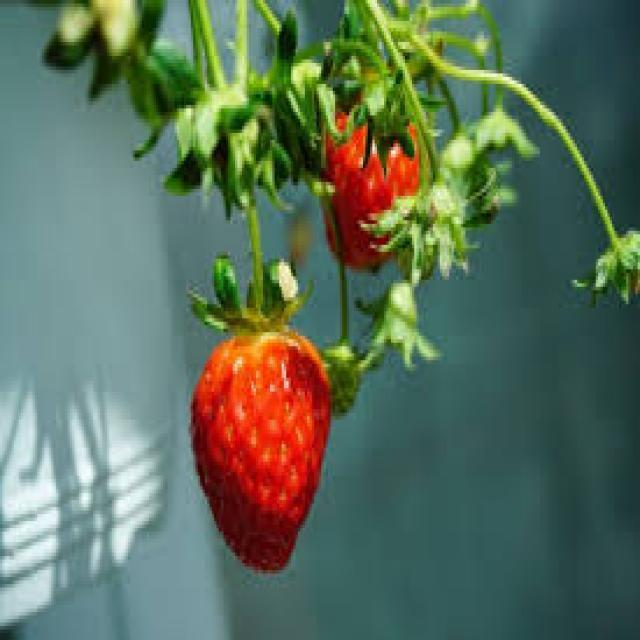ripe: (192, 330, 330, 570)
